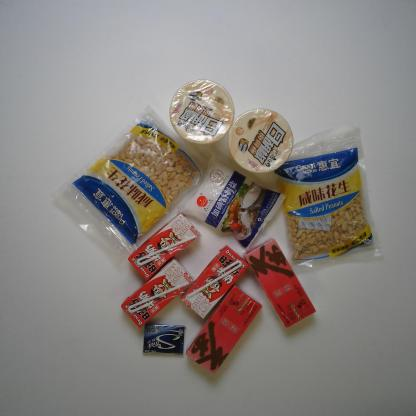Dried Fruit: (54, 105, 216, 273), (271, 125, 385, 275)
Gum: (143, 323, 185, 355)
Instant Drink: (186, 284, 262, 376), (244, 237, 317, 328)
Instant Noodles: (169, 80, 234, 144), (229, 109, 293, 173)
Milk: (180, 244, 249, 319), (120, 258, 194, 327), (128, 213, 200, 281)
Seasoner: (179, 145, 286, 251)
